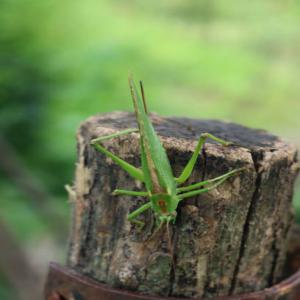locust: (73, 66, 241, 250)
